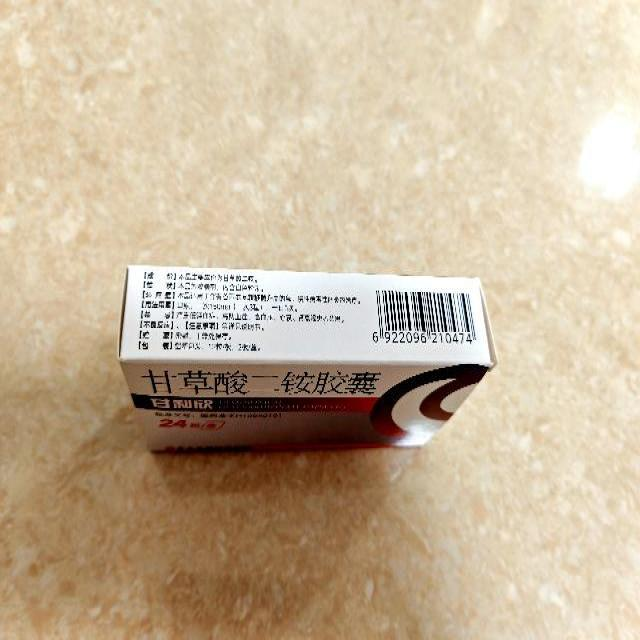box: (117, 263, 499, 457)
